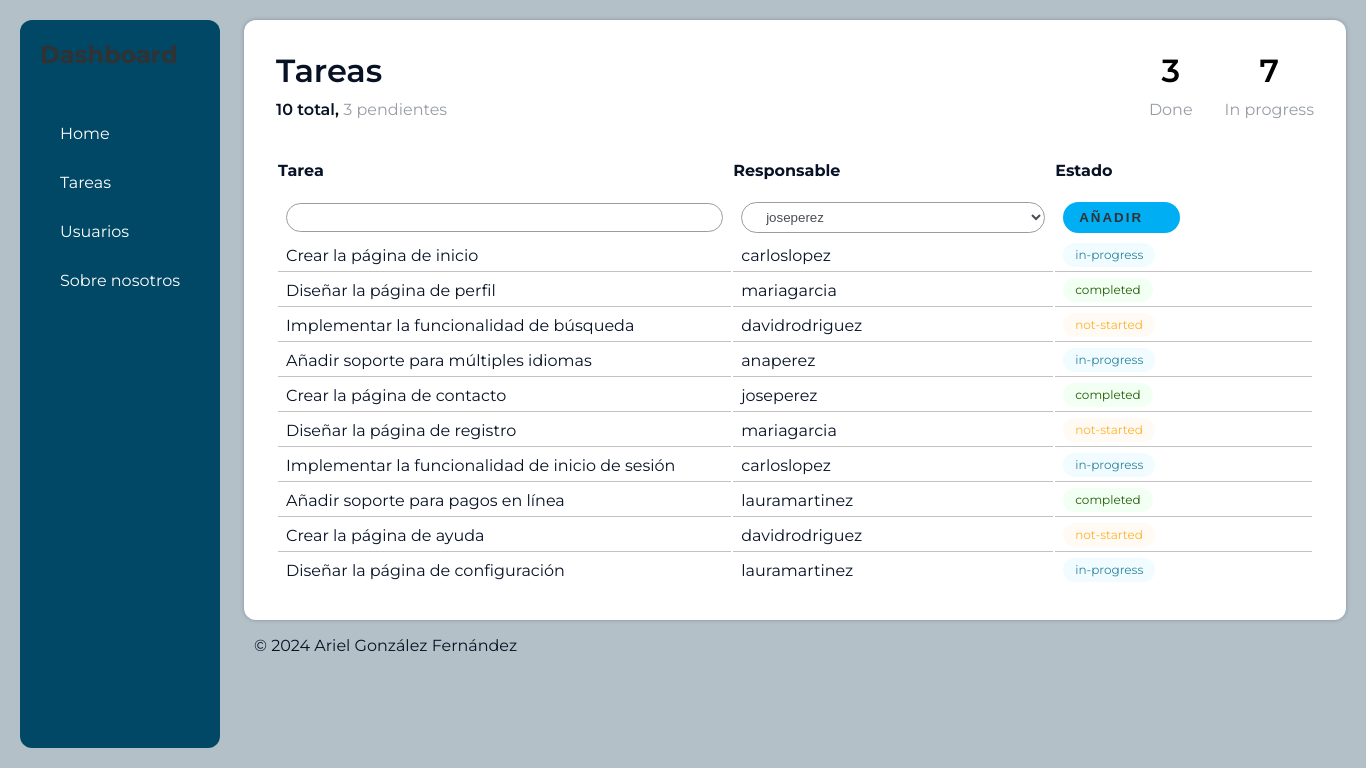
Scenario: Tasks Table › should assign the task to any user
Type "Otra Tarea" into the field with id "task-input" at (505, 218), box [286,203,723,232]
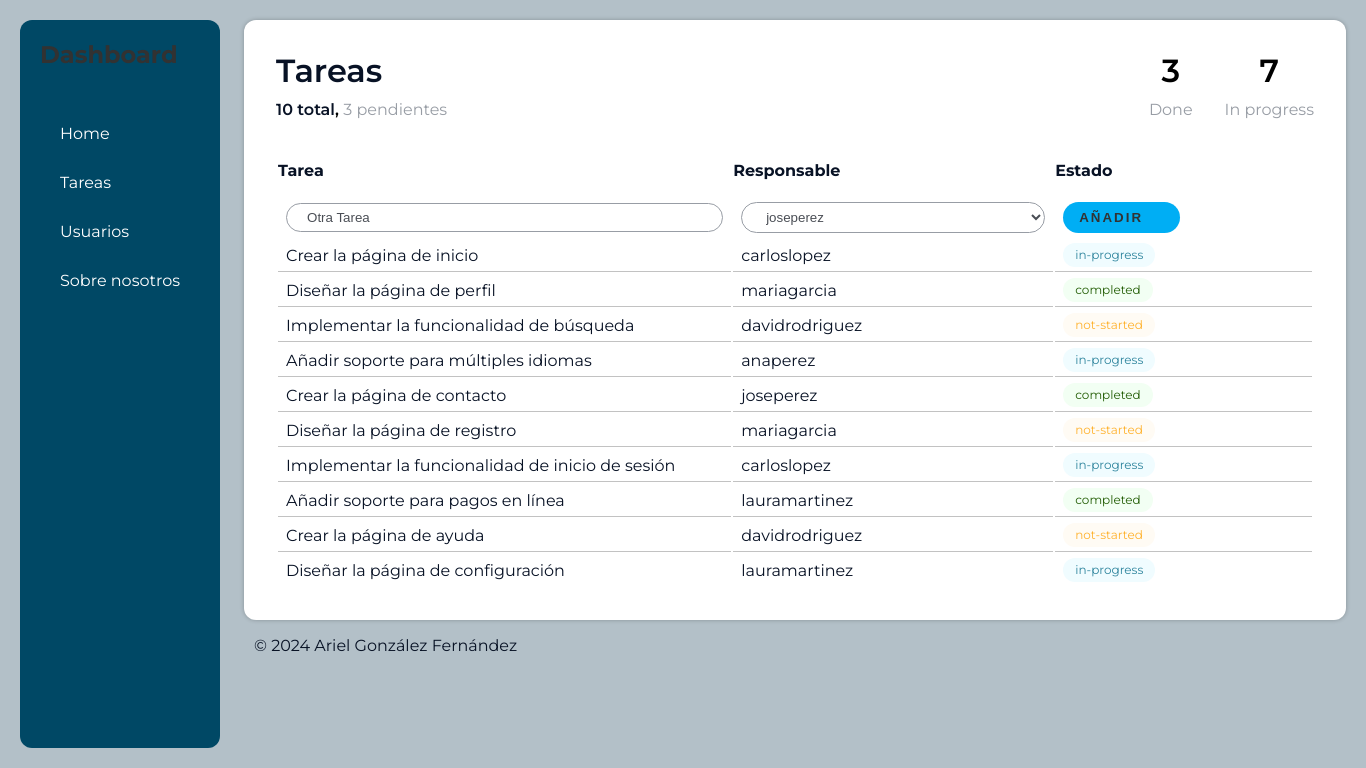
Select "joseperez" in the dropdown with id "user-select" at (893, 218), box [741,202,1045,233]
Click the button with id "create-task-button" at (1122, 218), box [1063,202,1180,233]
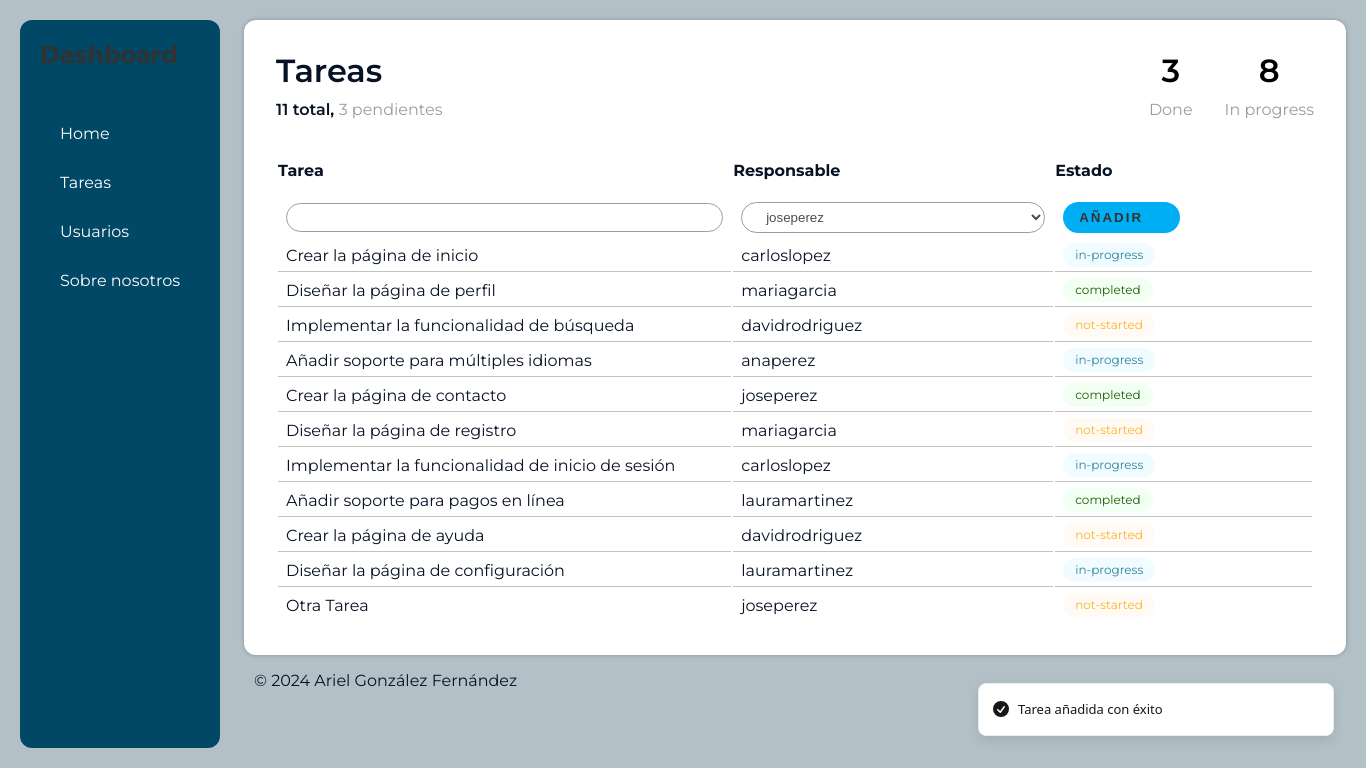
Result: the cell "Otra Tarea" is shown at [278,589,731,621]
Result: the cell "joseperez" in the row of "Otra Tarea" is shown at [741,596,817,615]
Result: the text "not-started" in the row of "Otra Tarea" is shown at [1075,597,1143,612]
Type "Otra Tarea" into the field with id "task-input" at (505, 218), box [286,203,723,232]
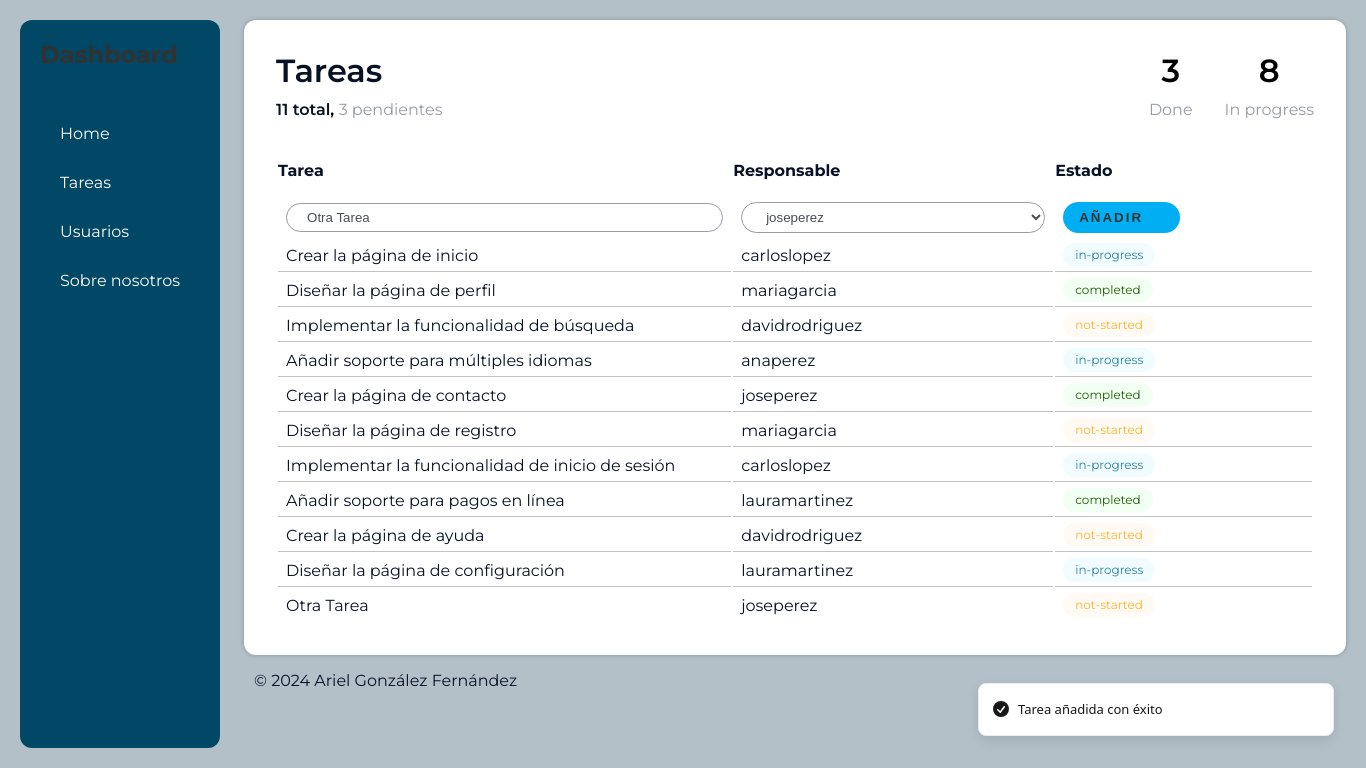
Select "mariagarcia" in the dropdown with id "user-select" at (893, 218), box [741,202,1045,233]
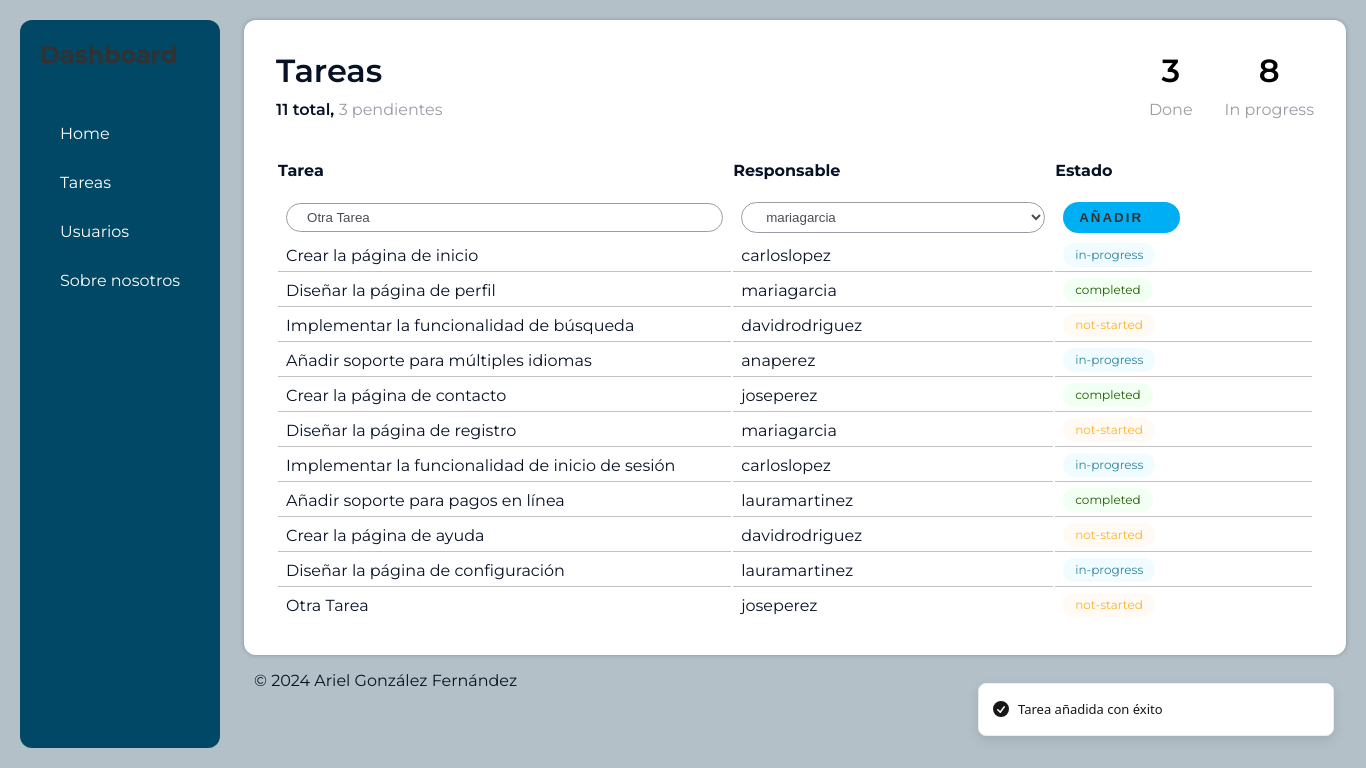
Click the button with id "create-task-button" at (1122, 218), box [1063,202,1180,233]
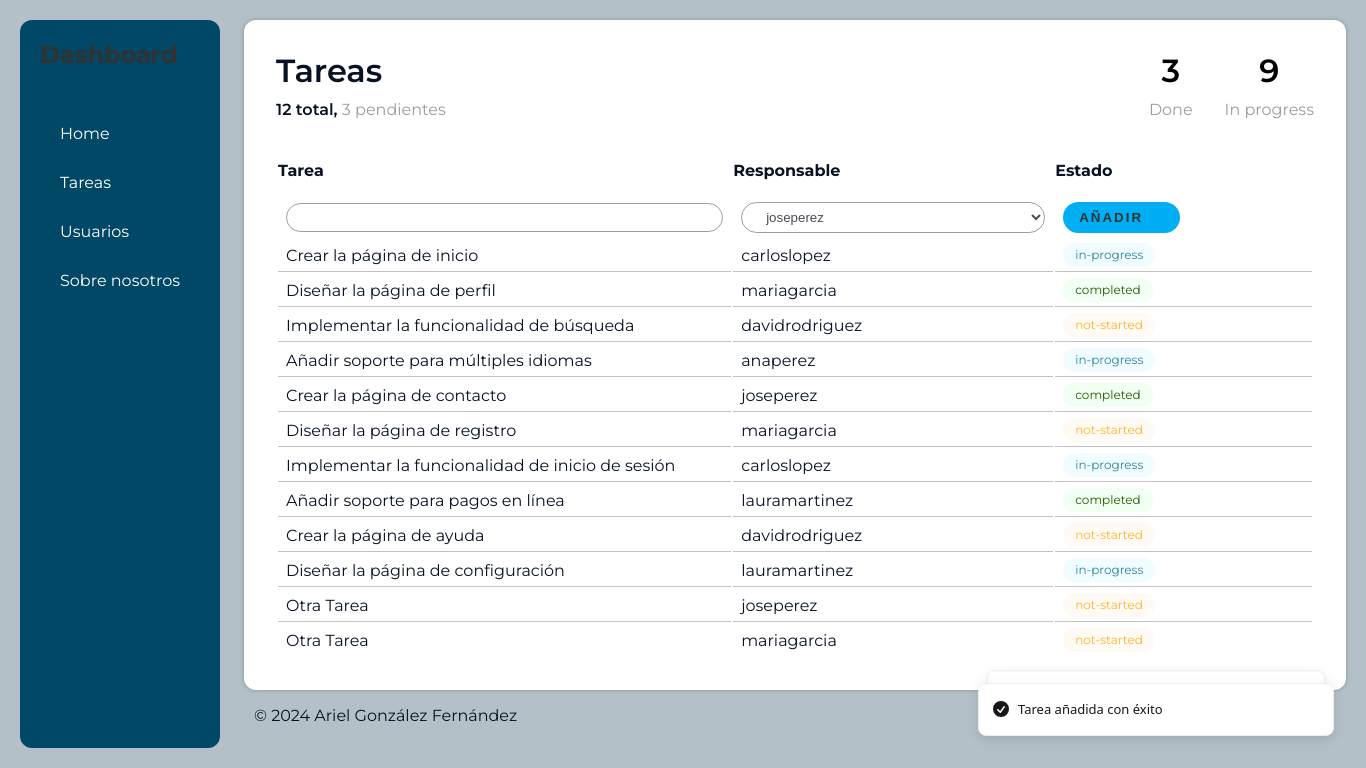
Result: the 2nd cell "Otra Tarea" is shown at [278,624,731,656]
Result: the 3rd cell "mariagarcia" is shown at [733,624,1053,656]
Result: the 5th text "not-started" is shown at [1063,628,1155,652]
